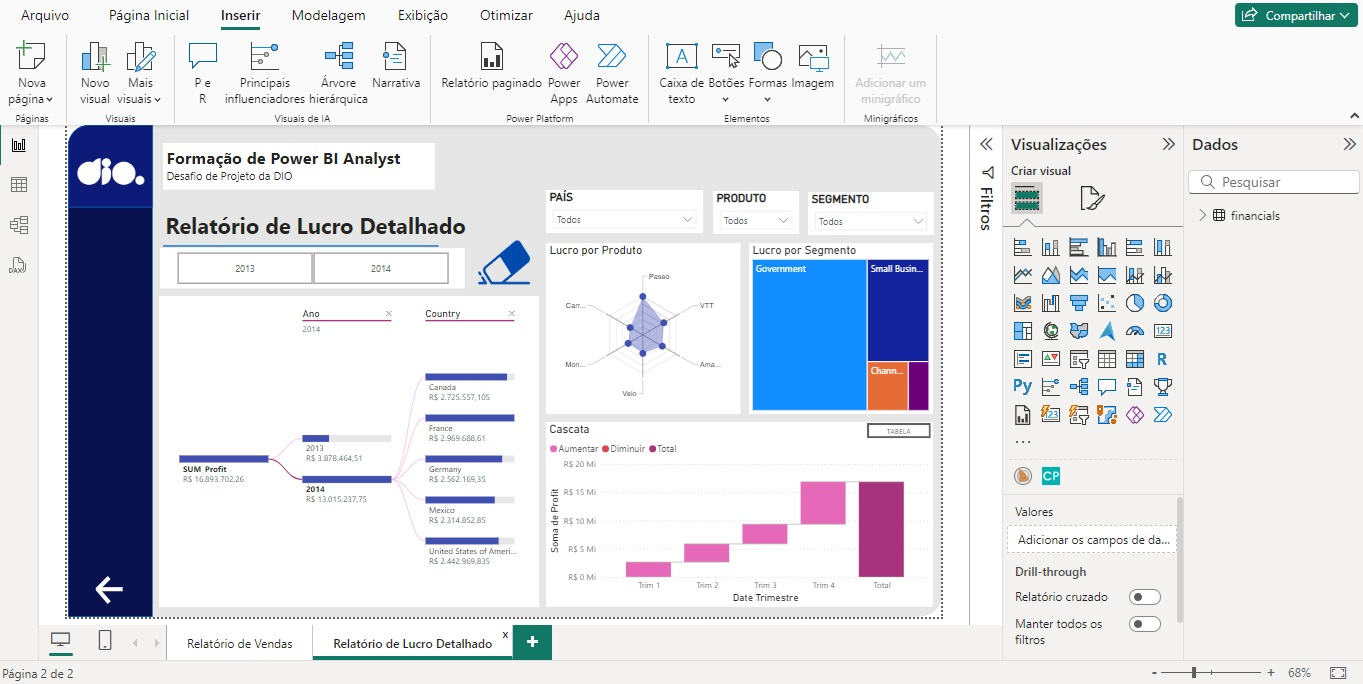

What the dashboard file says about the page in this screenshot:
{"tool":"powerbi","page":{"name":"Relatório de Lucro Detalhado","canvas":[1280,720],"ordinal":1},"visuals":[{"type":"group","id":"g1","title":"Base","box":[1,0,1279.5,720],"z":0},{"type":"shape","box":[125,0,1155.5,120.8],"z":0,"group":"g1"},{"type":"slicer","title":"PAÍS","fields":{"Values":["financials.Country"]},"box":[701.4,95.7,230,62.9],"z":0,"group":"g3"},{"type":"slicer","title":"PRODUTO","fields":{"Values":["financials.Product"]},"box":[945.8,96.5,125.8,62.5],"z":0,"group":"g4"},{"type":"slicer","title":"SEGMENTO","fields":{"Values":["financials.Segment"]},"box":[1084.2,97.3,184.4,63.3],"z":0,"group":"g5"},{"type":"slicer","fields":{"Values":["financials.Date.Variation.Hierarquia de datas.Ano"]},"box":[135.7,180,445.7,58.6],"z":0,"group":"g2"},{"type":"waterfallChart","title":"Cascata","fields":{"Y":["Sum(financials.Profit)"],"Category":["financials.Date.Variation.Hierarquia de datas.Trimestre"]},"box":[701.7,435,565,270],"z":0,"group":"g6"},{"type":"group","id":"g2","title":"Filtro com data","box":[135.7,180,445.7,58.6],"z":1000},{"type":"shape","box":[824.3,185.4,215,106.7],"z":1000,"group":"g1"},{"type":"actionButton","title":"Botão - Tabela","box":[1172.1,436.5,93.5,22.3],"z":1500,"group":"g6"},{"type":"shape","title":"Plano de Fundo","box":[10.5,0,1269.9,720],"z":2000,"group":"g1"},{"type":"RadarChart1446119667547","title":"Lucro por Produto","fields":{"Y":["Sum(financials.Profit)"],"Category":["financials.Product"]},"box":[701.7,173.3,283.3,250],"z":2000},{"type":"shape","title":"Barra Lateral","box":[1,0,124,720],"z":3000,"group":"g1"},{"type":"treemap","title":"Lucro por Segmento","fields":{"Values":["Sum(financials.Profit)"],"Group":["financials.Segment"]},"box":[998.3,173.3,268.3,250],"z":3000},{"type":"shape","title":"Porta Logo","box":[1,0,124,120.8],"z":4000,"group":"g1"},{"type":"decompositionTreeVisual","fields":{"ExplainBy":["financials.Date.Variation.Hierarquia de datas.Ano","financials.Country"],"Analyze":["financials.SUM_Profit"]},"box":[135,250,555,455],"z":4000},{"type":"group","id":"g3","title":"Filtro com data","box":[701.4,95.7,230,62.9],"z":5000},{"type":"textbox","box":[139.3,26.7,398.3,68.3],"z":6000,"group":"g1"},{"type":"group","id":"g4","title":"Filtro com data","box":[945.8,96.5,125.8,62.5],"z":6000},{"type":"group","id":"g5","title":"Filtro com data","box":[1084.2,97.3,182.9,61.4],"z":7000},{"type":"shape","title":"Base gráico meio","box":[136,250,555,455],"z":7000,"group":"g1"},{"type":"shape","title":"Linha","box":[139.3,165,403.3,23.3],"z":8000,"group":"g1"},{"type":"group","id":"g6","title":"Lucro_Trimestr","box":[701.7,435,565,270],"z":8000},{"type":"image","box":[10.2,14.6,108.3,106.8],"z":9000},{"type":"textbox","title":"Sales Report","box":[138.7,119.5,506.9,54.5],"z":9000,"group":"g1"},{"type":"image","box":[595.6,158,87.8,86.3],"z":10000},{"type":"shape","title":"Base gráico meio","box":[702.7,435,565,270],"z":10000,"group":"g1"},{"type":"shape","title":"Base gráico meio","box":[999.3,173.3,268.3,250],"z":11000,"group":"g1"},{"type":"shape","title":"Base gráico meio","box":[702.7,173.3,283.3,250],"z":12000,"group":"g1"},{"type":"actionButton","title":"Botão Voltar","box":[37.7,655,50,50],"z":13000,"group":"g1"}]}

Visuals, with their boxes on the page's 1280x720 design canvas (x1, y1, x2, y2). These are canvas units, not pixel positions in the 1363x684 screenshot, which may show the page scaled, cropped or inside an application window:
"Base" group: [left=1, top=0, right=1280, bottom=720]
shape: [left=125, top=0, right=1280, bottom=121]
"PAÍS" slicer: [left=701, top=96, right=931, bottom=159]
"PRODUTO" slicer: [left=946, top=96, right=1072, bottom=159]
"SEGMENTO" slicer: [left=1084, top=97, right=1269, bottom=161]
slicer - financials.Date.Variation.Hierarquia de datas.Ano: [left=136, top=180, right=581, bottom=239]
"Cascata" waterfallChart: [left=702, top=435, right=1267, bottom=705]
"Filtro com data" group: [left=136, top=180, right=581, bottom=239]
shape: [left=824, top=185, right=1039, bottom=292]
"Botão - Tabela" actionButton: [left=1172, top=436, right=1266, bottom=459]
"Plano de Fundo" shape: [left=10, top=0, right=1280, bottom=720]
"Lucro por Produto" RadarChart1446119667547: [left=702, top=173, right=985, bottom=423]
"Barra Lateral" shape: [left=1, top=0, right=125, bottom=720]
"Lucro por Segmento" treemap: [left=998, top=173, right=1267, bottom=423]
"Porta Logo" shape: [left=1, top=0, right=125, bottom=121]
decompositionTreeVisual - financials.Date.Variation.Hierarquia de datas.Ano x financials.Country: [left=135, top=250, right=690, bottom=705]
"Filtro com data" group: [left=701, top=96, right=931, bottom=159]
textbox: [left=139, top=27, right=538, bottom=95]
"Filtro com data" group: [left=946, top=96, right=1072, bottom=159]
"Filtro com data" group: [left=1084, top=97, right=1267, bottom=159]
"Base gráico meio" shape: [left=136, top=250, right=691, bottom=705]
"Linha" shape: [left=139, top=165, right=543, bottom=188]
"Lucro_Trimestr" group: [left=702, top=435, right=1267, bottom=705]
image: [left=10, top=15, right=118, bottom=121]
"Sales Report" textbox: [left=139, top=120, right=646, bottom=174]
image: [left=596, top=158, right=683, bottom=244]
"Base gráico meio" shape: [left=703, top=435, right=1268, bottom=705]
"Base gráico meio" shape: [left=999, top=173, right=1268, bottom=423]
"Base gráico meio" shape: [left=703, top=173, right=986, bottom=423]
"Botão Voltar" actionButton: [left=38, top=655, right=88, bottom=705]
